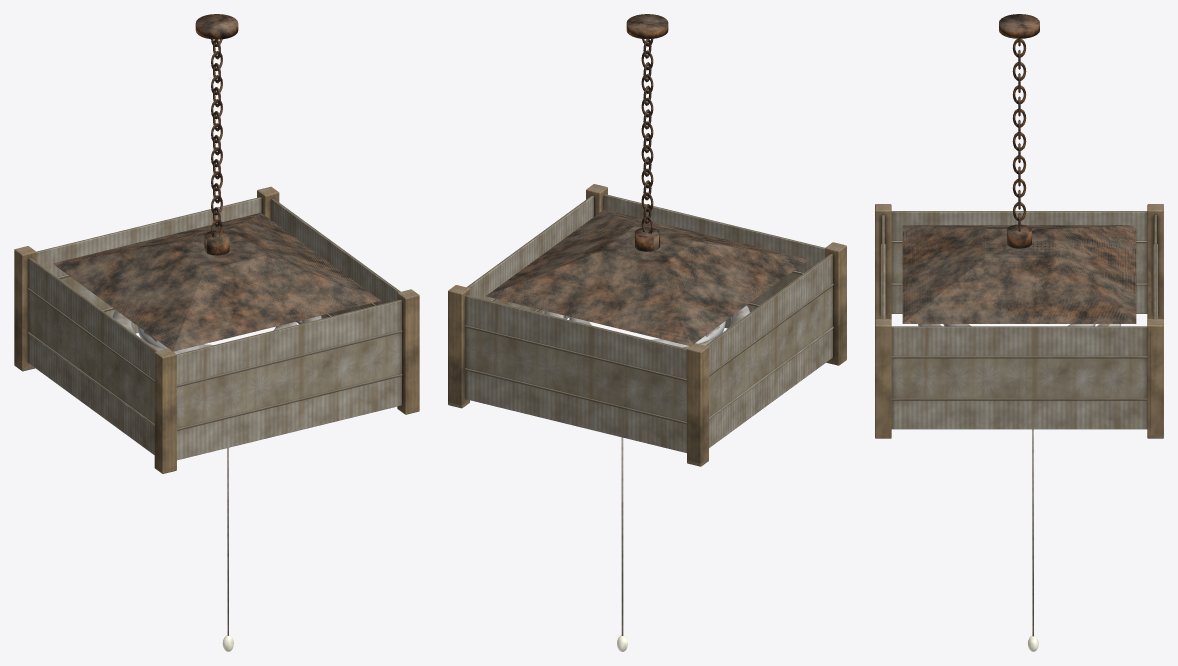
The model's file is CeilingLight.gltf.
The picture shows the model from 3 angles, left to right: view 1: azimuth 30°, elevation 25°; view 2: azimuth 150°, elevation 25°; view 3: azimuth 270°, elevation 25°; orthographic projection. The views are drawn at different scales.
Visible parts, largest first — view 1: Metal_Cap, Glass_Side_0, Glass_Side_3, Glass_Side_2, Glass_Side_1, Wood_Post_2, Wood_Post_3, Wood_Post_1, Ceiling_Plate, Glass_Rib_0_0, Glass_Rib_0_1, Metal_Socket; view 2: Metal_Cap, Glass_Side_2, Glass_Side_3, Glass_Side_0, Glass_Side_1, Wood_Post_1, Wood_Post_0, Wood_Post_2, Ceiling_Plate, Glass_Rib_2_0, Glass_Rib_2_1, Pull_Cord; view 3: Glass_Side_1, Metal_Cap, Glass_Side_3, Wood_Post_0, Wood_Post_3, Wood_Post_1, Wood_Post_2, Ceiling_Plate, Glass_Rib_1_0, Glass_Rib_1_1, Metal_Socket.
Part boxes in pixels (bbox=[...]): Metal_Cap: bbox=[53, 213, 380, 351]; Glass_Side_0: bbox=[176, 299, 401, 460]; Glass_Side_3: bbox=[28, 257, 157, 454]; Glass_Side_2: bbox=[36, 197, 261, 333]; Glass_Side_1: bbox=[271, 198, 400, 324]; Wood_Post_2: bbox=[154, 348, 176, 473]; Wood_Post_3: bbox=[397, 289, 419, 414]; Wood_Post_1: bbox=[14, 246, 36, 371]; Ceiling_Plate: bbox=[195, 14, 238, 39]; Glass_Rib_0_0: bbox=[177, 330, 402, 387]; Glass_Rib_0_1: bbox=[177, 374, 402, 430]; Metal_Socket: bbox=[204, 230, 229, 255]; Metal_Cap: bbox=[486, 209, 808, 346]; Glass_Side_2: bbox=[465, 295, 686, 452]; Glass_Side_3: bbox=[706, 254, 832, 447]; Glass_Side_0: bbox=[603, 194, 824, 328]; Glass_Side_1: bbox=[467, 195, 593, 319]; Wood_Post_1: bbox=[687, 343, 708, 466]; Wood_Post_0: bbox=[448, 285, 469, 408]; Wood_Post_2: bbox=[825, 242, 846, 365]; Ceiling_Plate: bbox=[626, 14, 668, 39]; Glass_Rib_2_0: bbox=[465, 325, 686, 381]; Glass_Rib_2_1: bbox=[465, 368, 686, 424]; Pull_Cord: bbox=[621, 437, 623, 635]; Glass_Side_1: bbox=[891, 326, 1147, 429]; Metal_Cap: bbox=[902, 225, 1136, 323]; Glass_Side_3: bbox=[891, 211, 1147, 313]; Wood_Post_0: bbox=[1147, 319, 1163, 438]; Wood_Post_3: bbox=[875, 319, 891, 438]; Wood_Post_1: bbox=[1147, 204, 1163, 319]; Wood_Post_2: bbox=[875, 204, 891, 319]; Ceiling_Plate: bbox=[999, 14, 1039, 38]; Glass_Rib_1_0: bbox=[891, 356, 1147, 358]; Glass_Rib_1_1: bbox=[891, 398, 1147, 400]; Metal_Socket: bbox=[1007, 224, 1031, 248].
Size of the model in its own units: 0.42 by 0.9948 by 0.42.
Materials: 9 (9 with a texture image).
